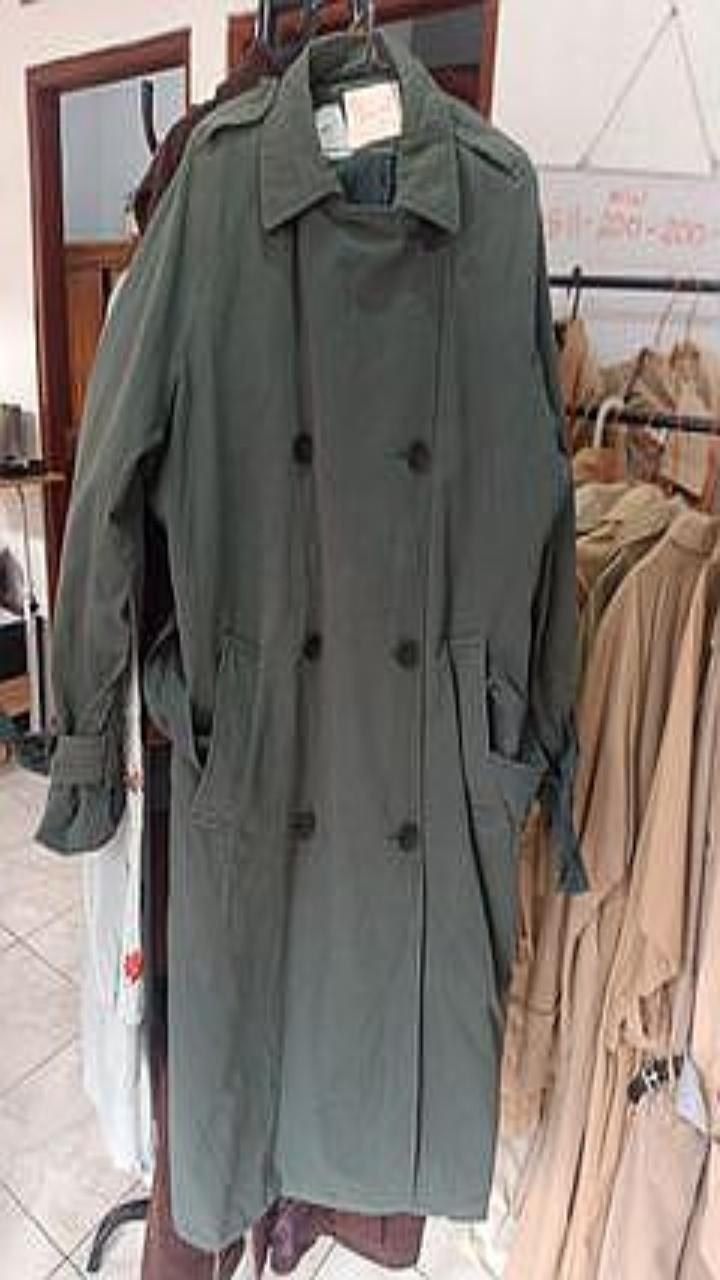Coat: (39, 36, 583, 1248)
